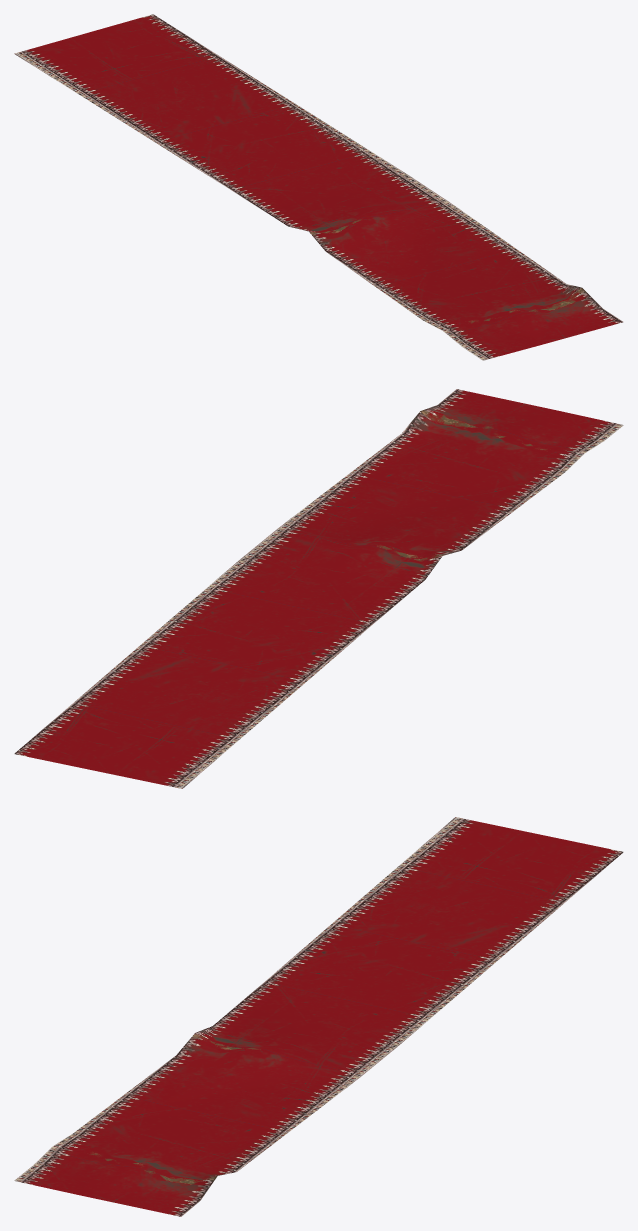
Rendered from SM_carpet_01.fbx.
The picture shows the model from 3 angles, top to bottom: view 1: azimuth 30°, elevation 25°; view 2: azimuth 150°, elevation 25°; view 3: azimuth 330°, elevation 25°; orthographic projection. The views are drawn at different scales.
Visible parts, largest first — view 1: SM_carpet_01; view 2: SM_carpet_01; view 3: SM_carpet_01.
Part boxes in pixels (x1,y1,x2,y2): SM_carpet_01: (14, 14, 623, 360); SM_carpet_01: (14, 389, 623, 788); SM_carpet_01: (14, 817, 623, 1216).
Size of the model in its own units: 132 by 549 by 5.84.
Materials: 1 (1 with a texture image).
